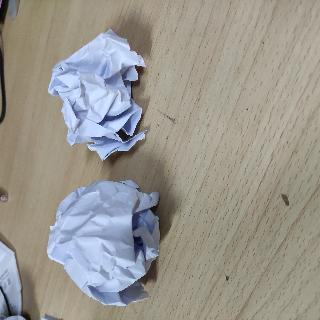8/可回收垃圾/纸: (46, 177, 162, 307), (46, 27, 148, 163)
